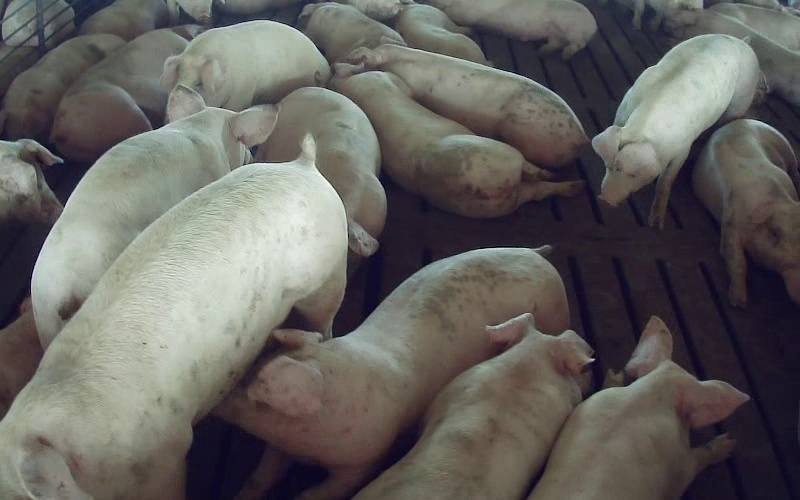pig: (0, 137, 346, 499), (215, 250, 567, 499), (32, 85, 277, 347), (356, 314, 591, 499), (530, 316, 748, 499), (329, 63, 582, 217), (592, 34, 758, 227), (345, 43, 588, 168), (256, 87, 386, 256), (51, 25, 204, 162), (693, 119, 799, 307), (425, 0, 596, 58), (297, 2, 404, 63), (392, 3, 491, 65)
